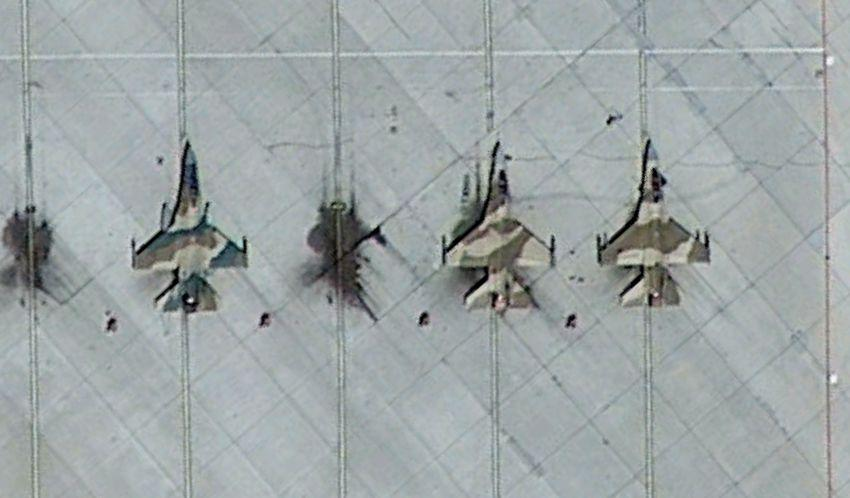F-16: (128, 138, 252, 318), (440, 143, 560, 317), (595, 137, 710, 309)
